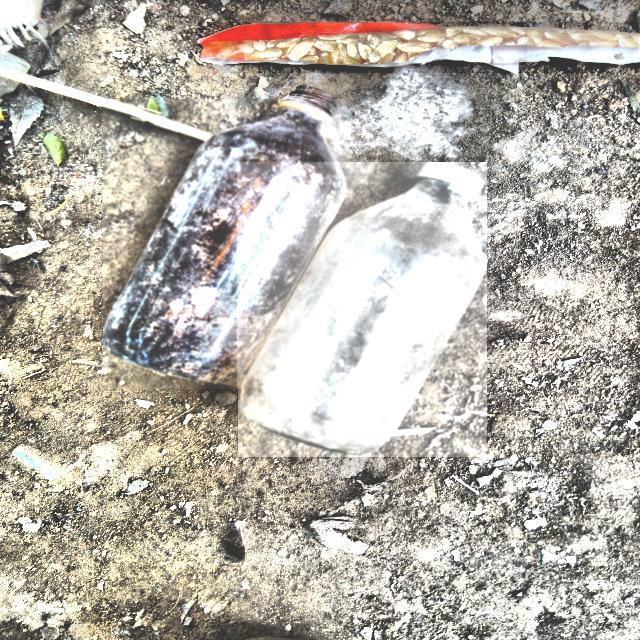anorganik: (238, 163, 487, 457), (103, 99, 348, 389)
organik: (196, 22, 640, 73)
